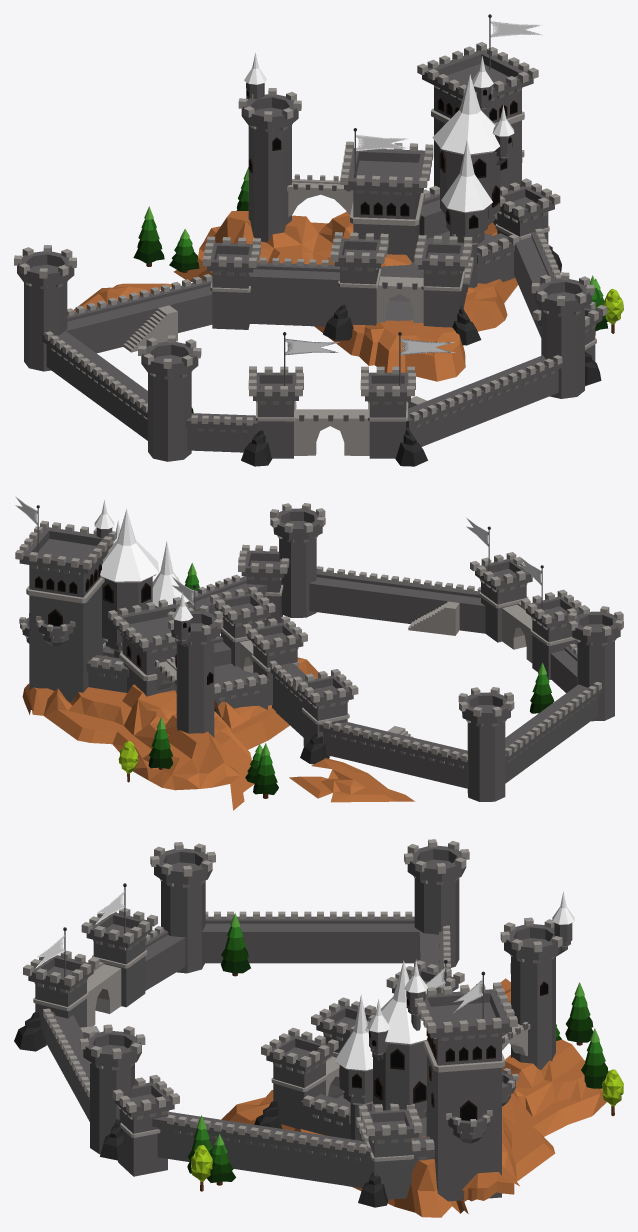
Rendered from new_festung_objekte.fbx.
3 views of the same model, one above another, from view 1: azimuth 30°, elevation 25°; view 2: azimuth 150°, elevation 25°; view 3: azimuth 270°, elevation 25° (orthographic). The views are drawn at different scales.
Visible parts, largest first — view 1: Cube.050, playerColor; view 2: Cube.050, playerColor; view 3: Cube.050, playerColor.
Boxes of the visible parts, bbox=[...] form: Cube.050: bbox=[14, 14, 623, 466]; playerColor: bbox=[244, 21, 544, 355]; Cube.050: bbox=[15, 503, 623, 810]; playerColor: bbox=[14, 496, 541, 621]; Cube.050: bbox=[14, 839, 623, 1217]; playerColor: bbox=[35, 891, 574, 1070].
Size of the model in its own units: 161 by 66.46 by 153.
